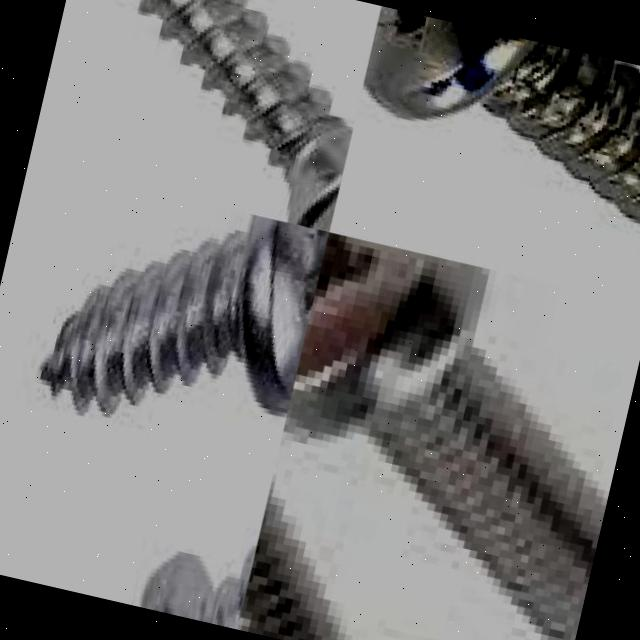Screw: (281, 232, 608, 640), (363, 6, 640, 224), (36, 213, 329, 417), (136, 0, 353, 232)
